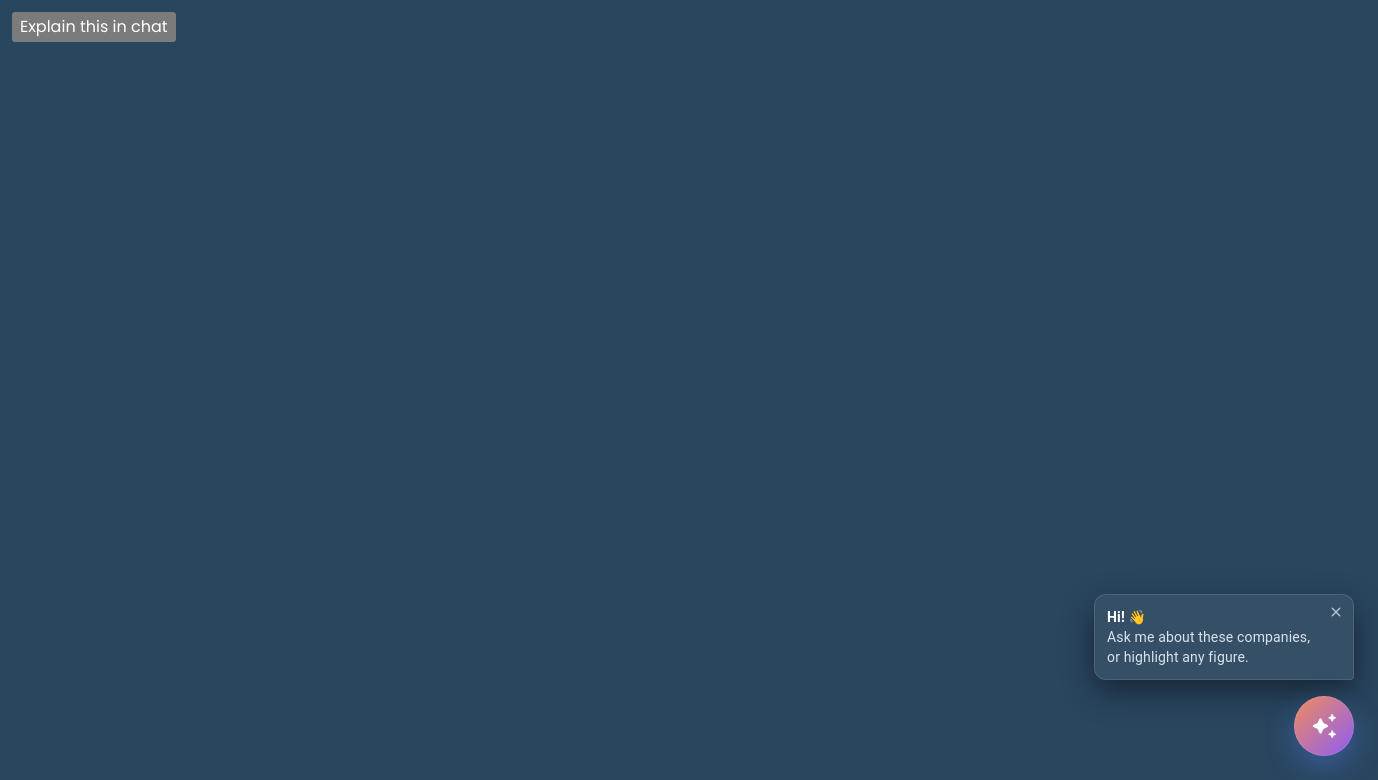
CompanyChatShell › closes the drawer and brings the Ask AI-BOSS button back
Click the button named "ask ai-boss" at (1324, 726), box [1294,696,1354,756]
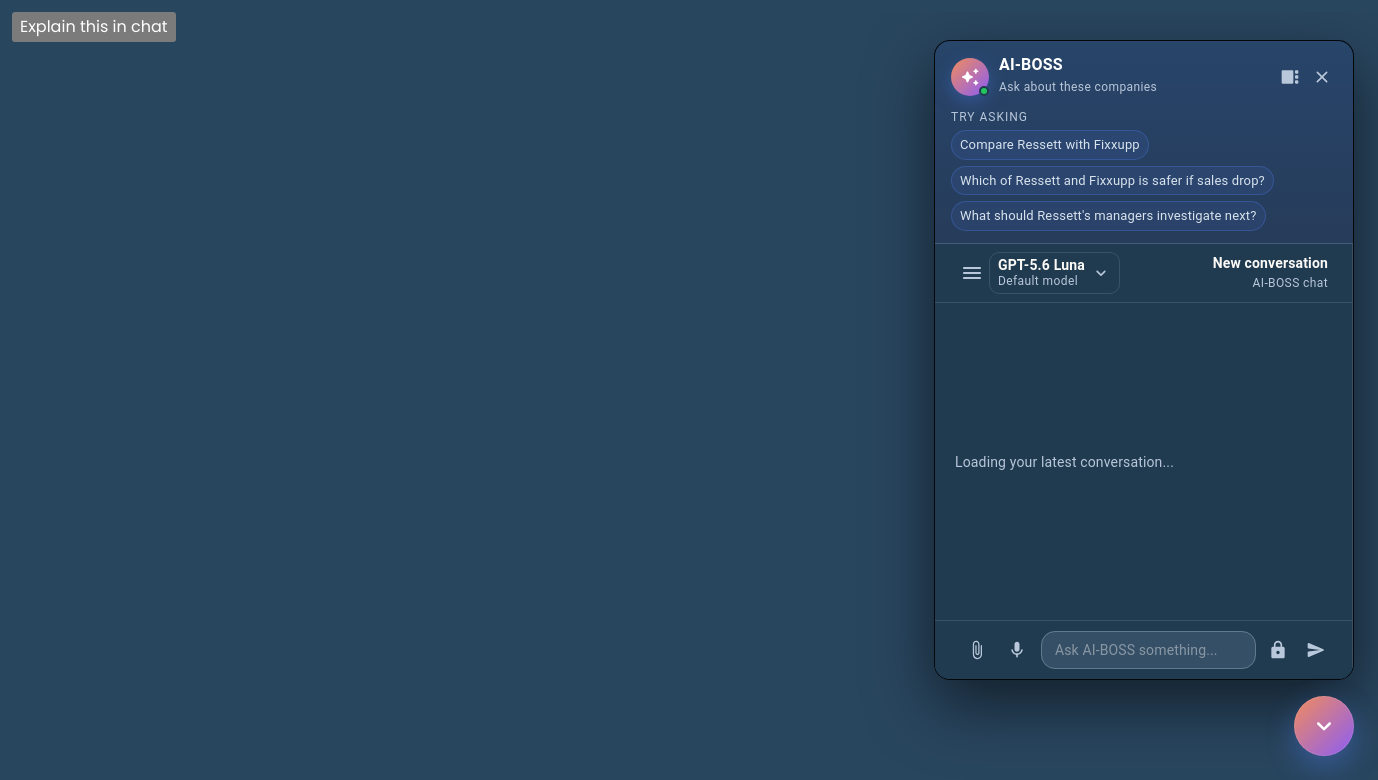
Click the button named "Close chat" at (1322, 77), box [1307,62,1337,92]
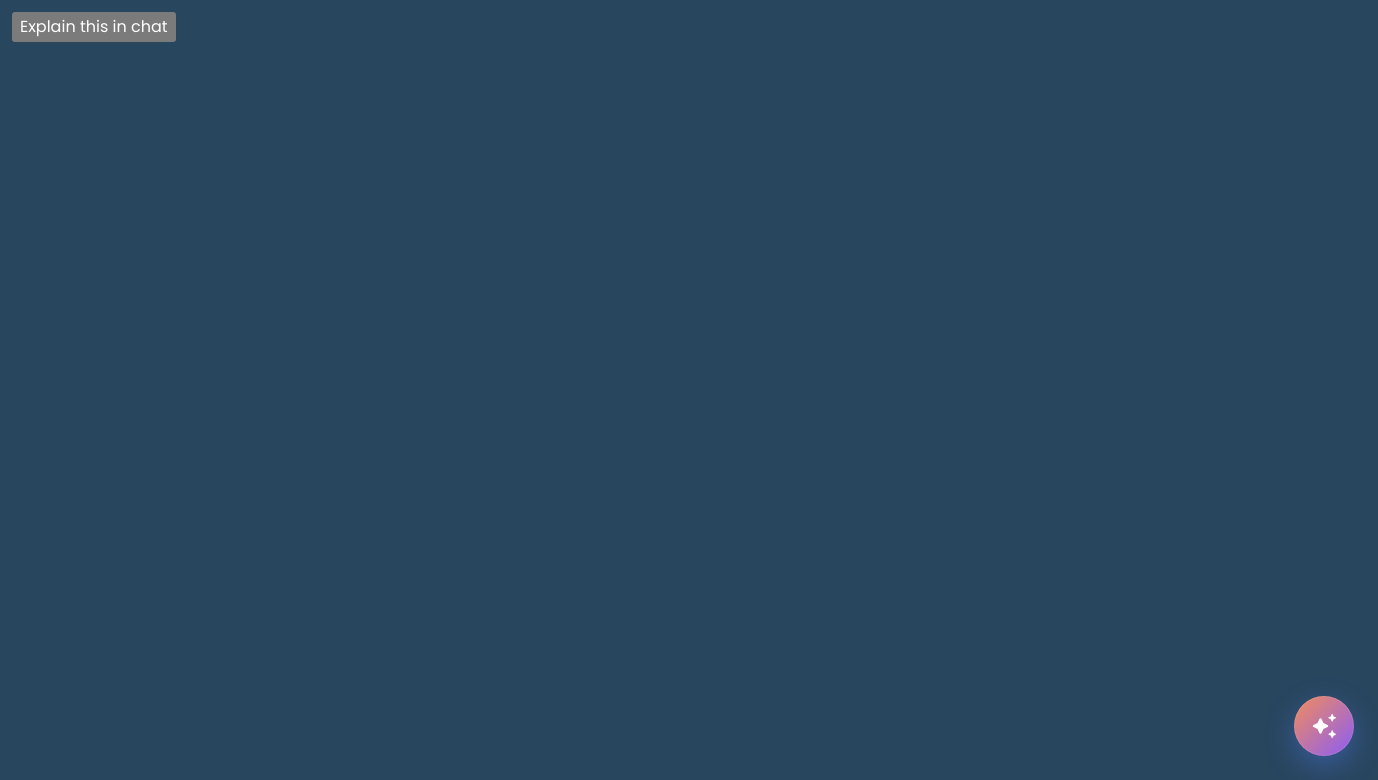
Result: the button named "ask ai-boss" is shown at [1294,696,1354,756]
